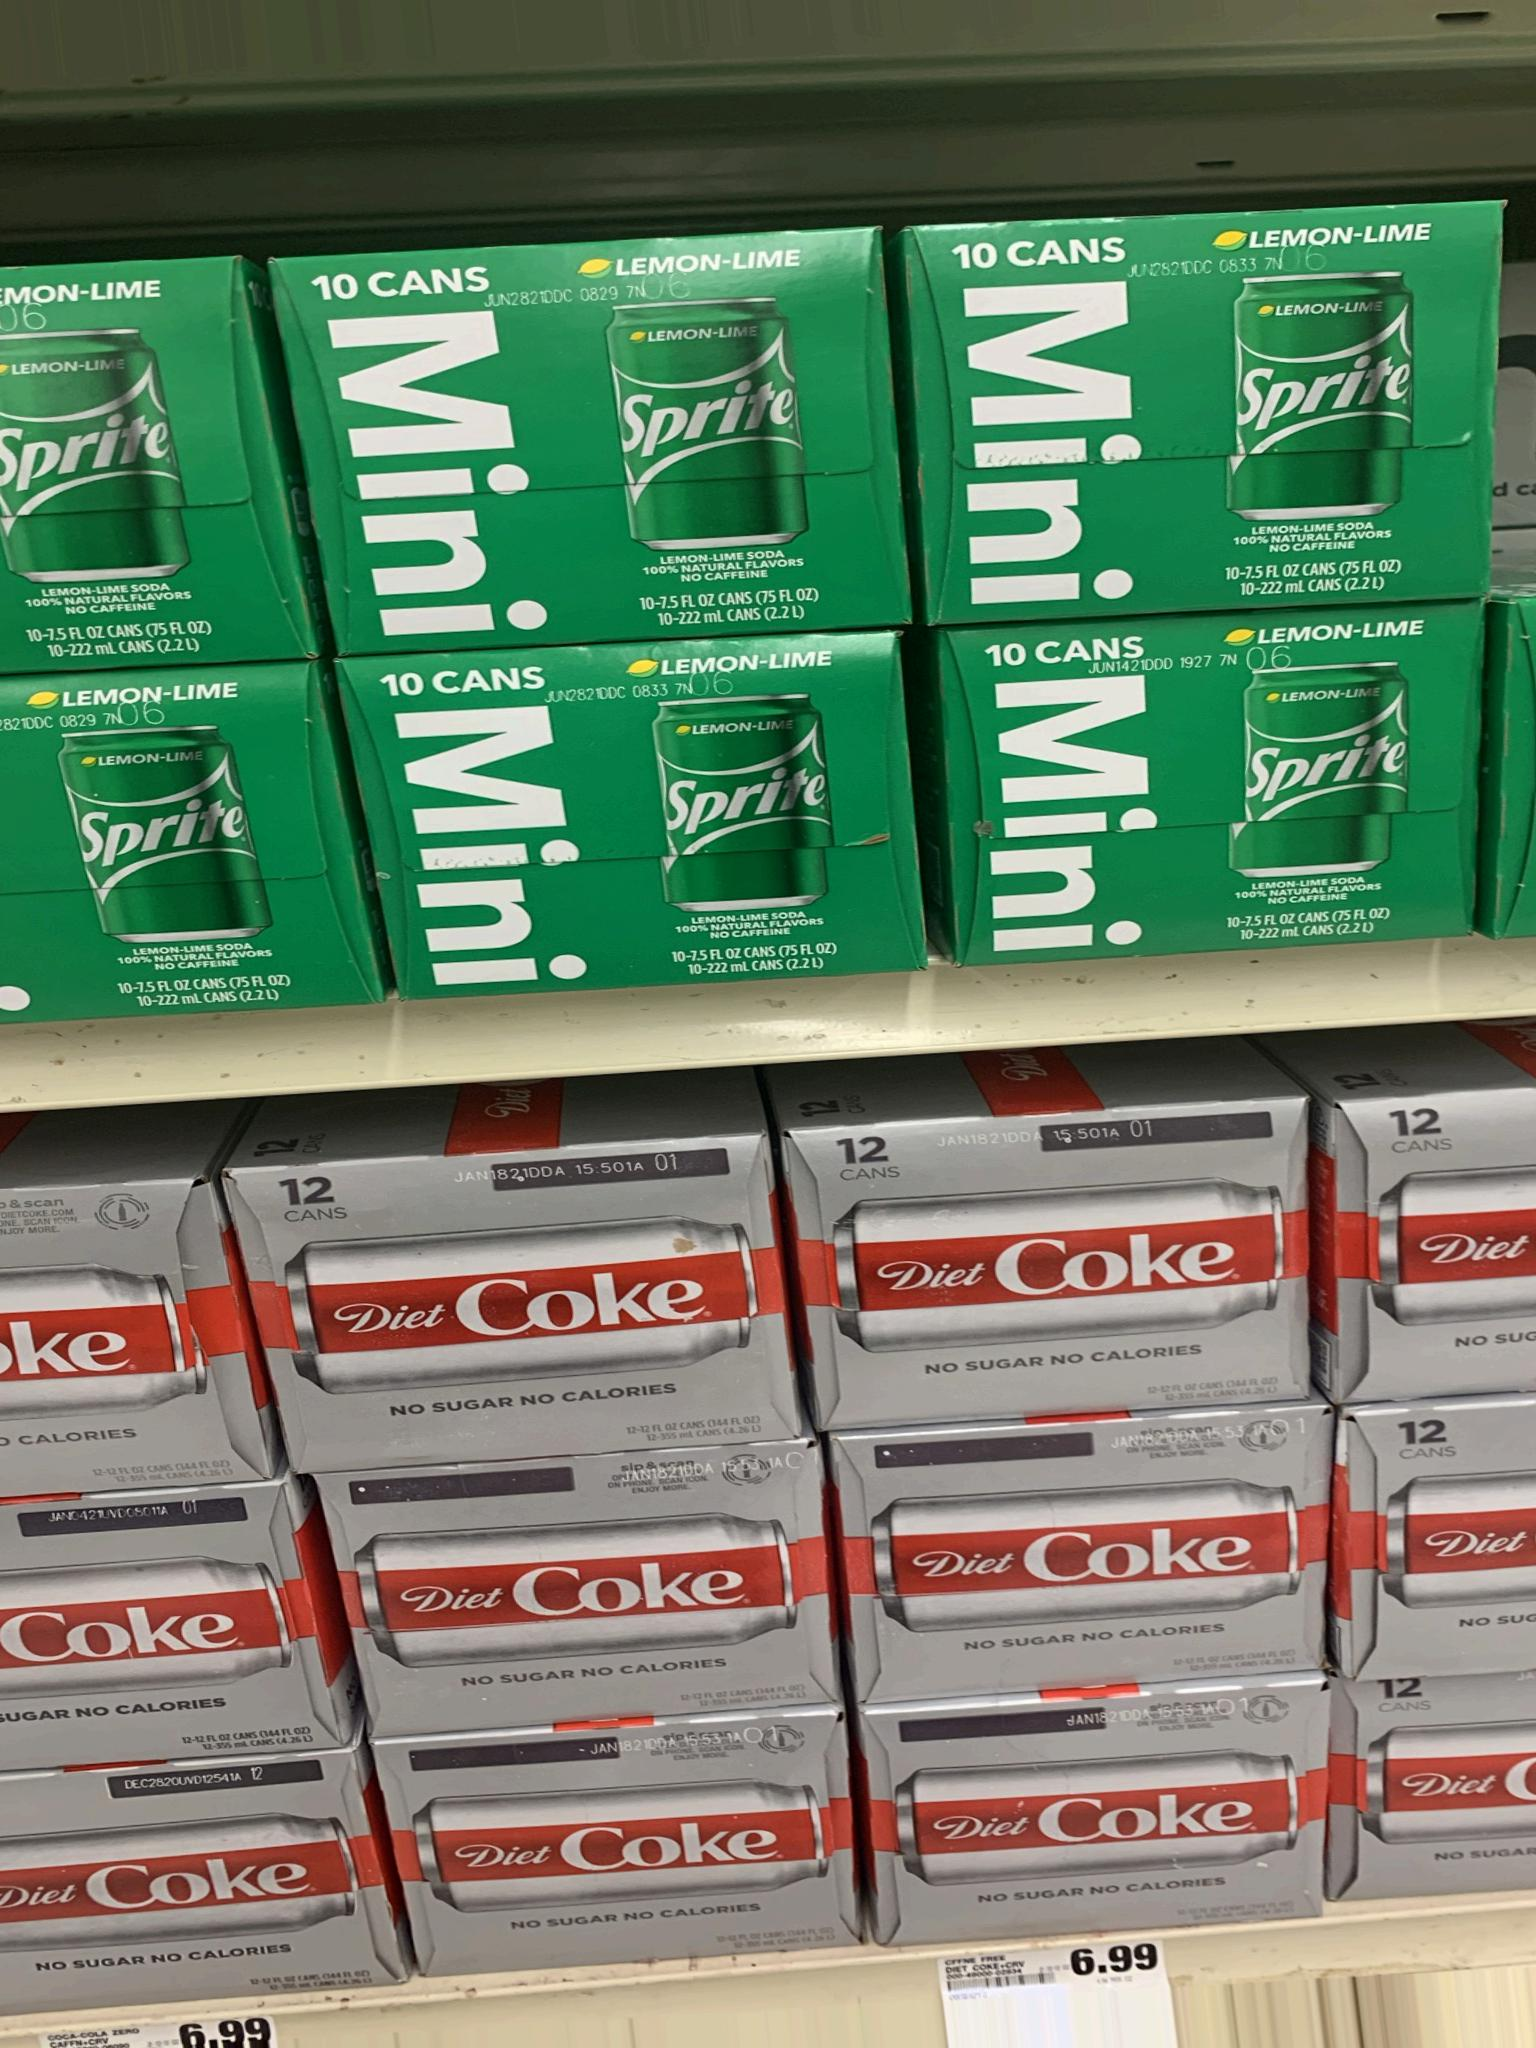soda: (278, 264, 912, 631), (910, 229, 1492, 597), (331, 658, 900, 985), (921, 631, 1489, 939), (231, 1176, 800, 1451), (792, 1129, 1333, 1413), (382, 1438, 836, 1759), (828, 1442, 1342, 1679), (10, 656, 332, 1030), (402, 1711, 821, 1996), (850, 1708, 1320, 1925), (2, 269, 252, 666), (2, 1479, 310, 1772), (2, 1755, 350, 2001), (2, 1177, 219, 1496), (1341, 1100, 1536, 1388), (1341, 1414, 1536, 1666), (1344, 1698, 1536, 1903)
